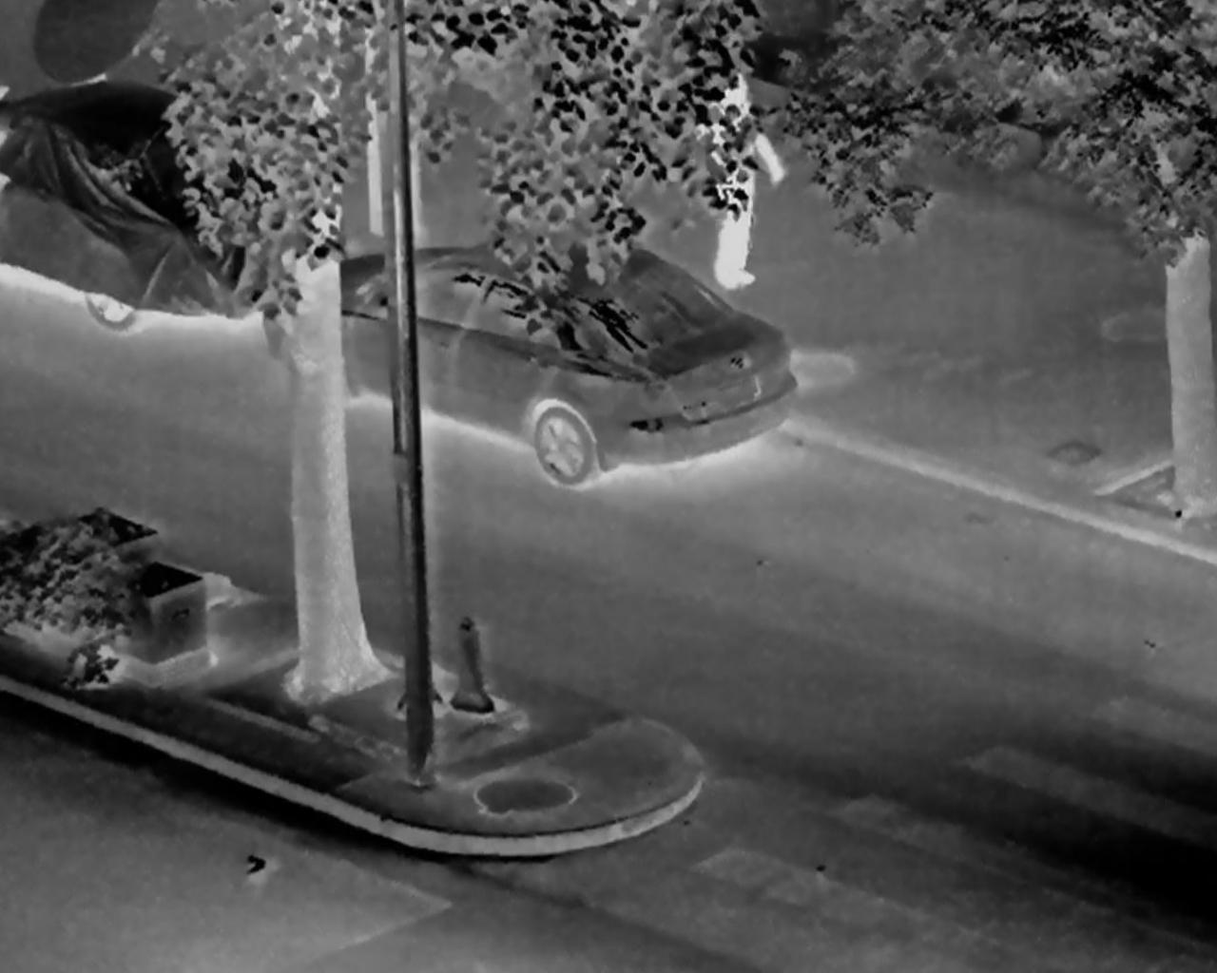person: (694, 64, 786, 290)
